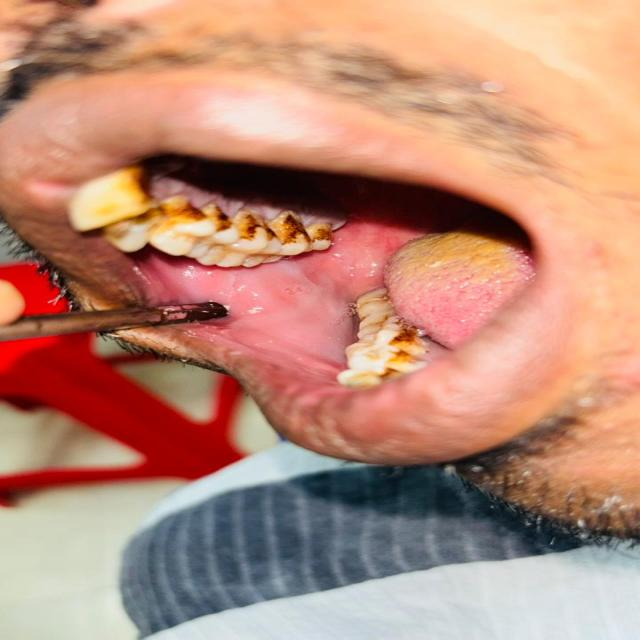leukoplakia-like-detection: (150, 260, 351, 378)
processing_area: (148, 224, 532, 380)
